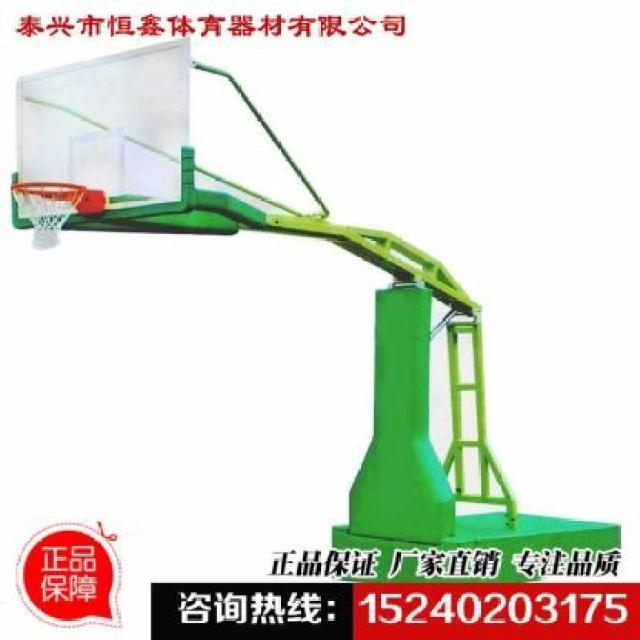rim: (7, 180, 84, 248)
